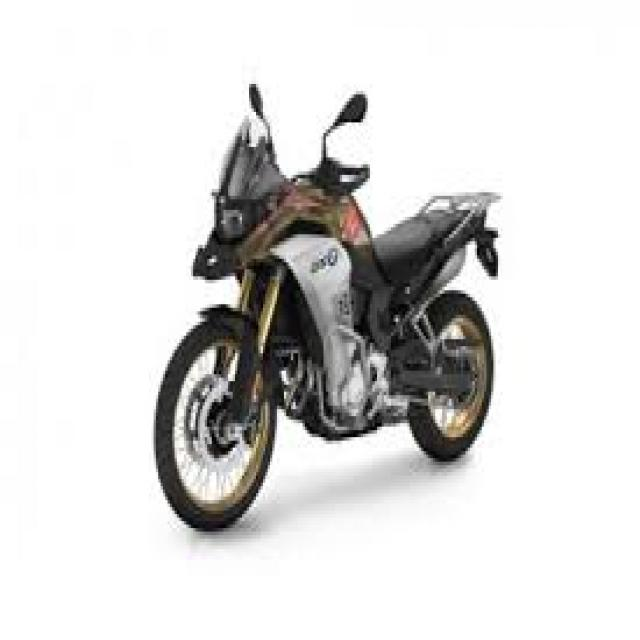Bike: (153, 80, 503, 534)
